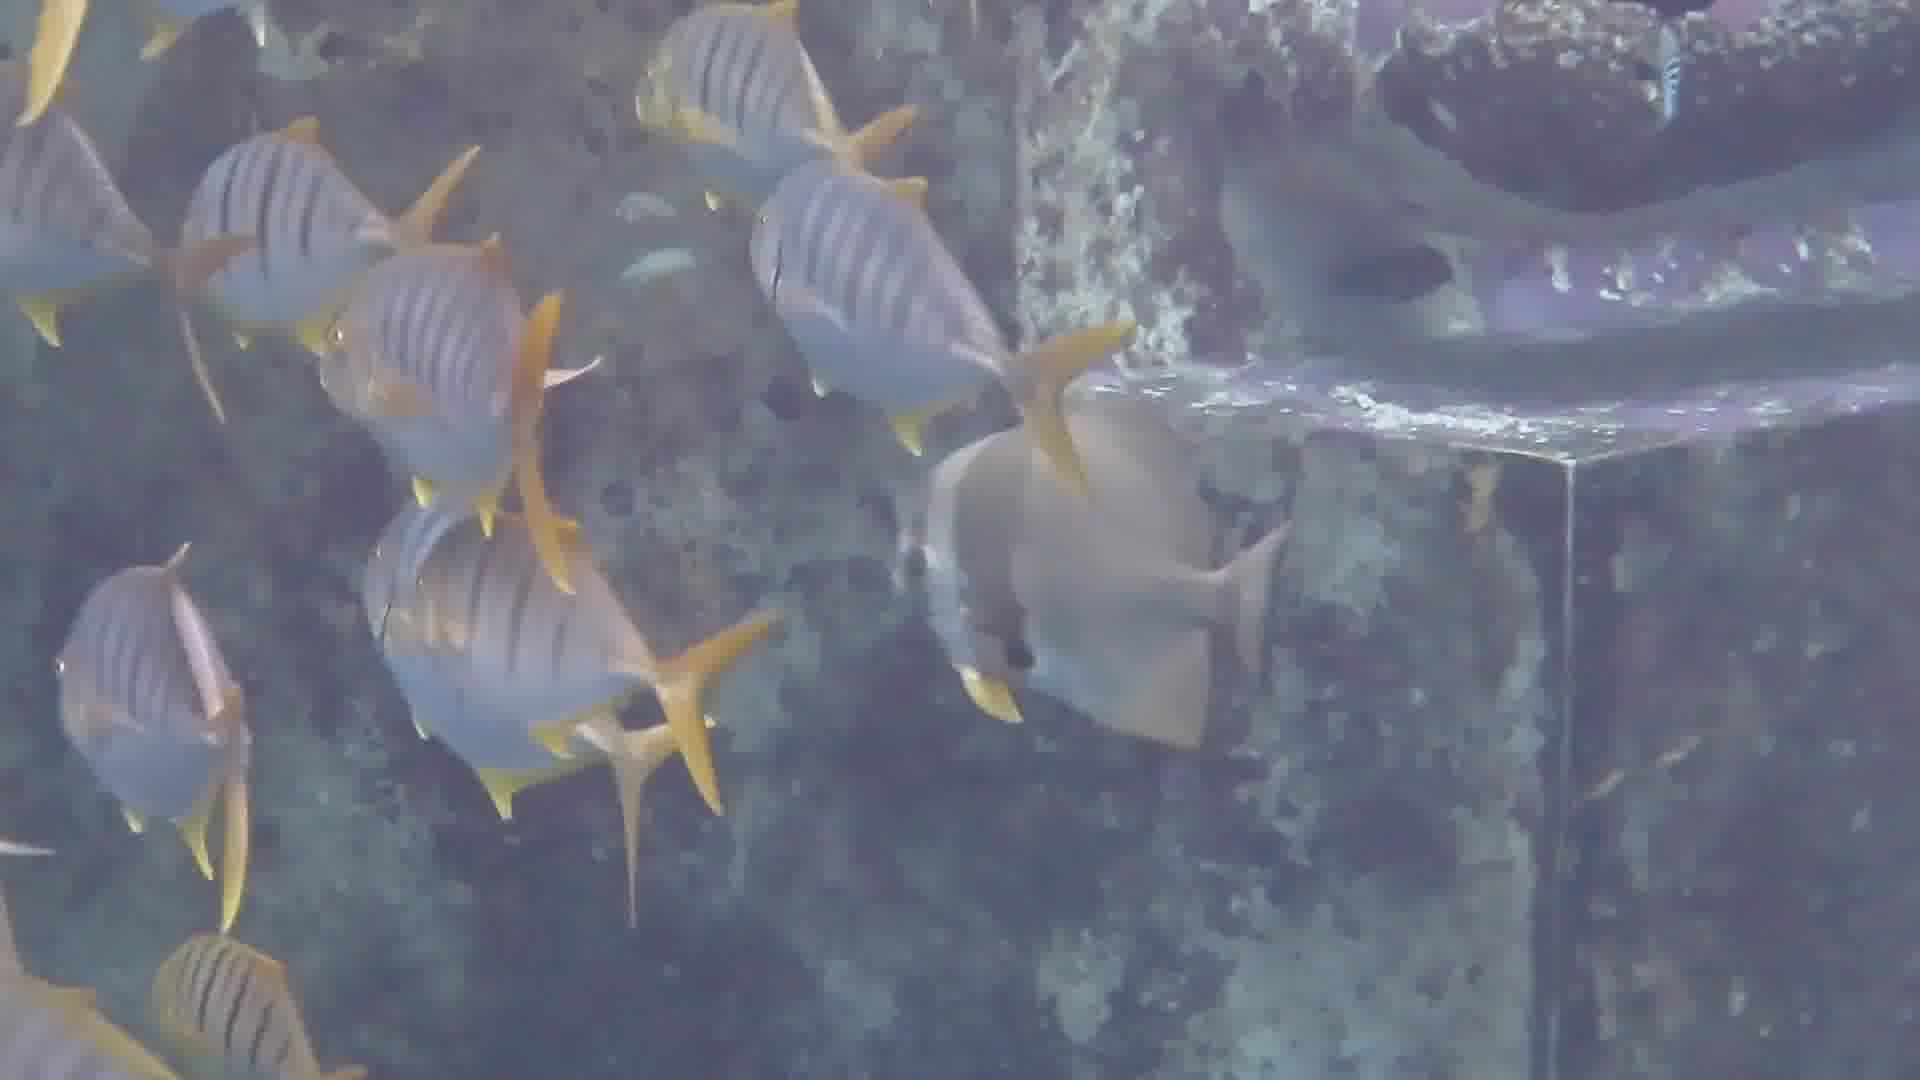Gnathanodon speciosus: (745, 165, 1093, 487), (404, 524, 705, 812), (318, 264, 576, 563), (40, 545, 222, 843), (620, 3, 866, 191)
